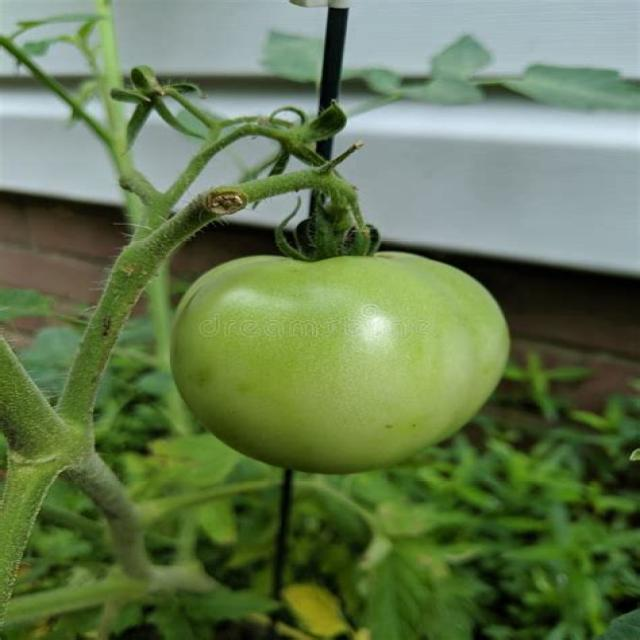Tomato: (170, 174, 512, 477)
